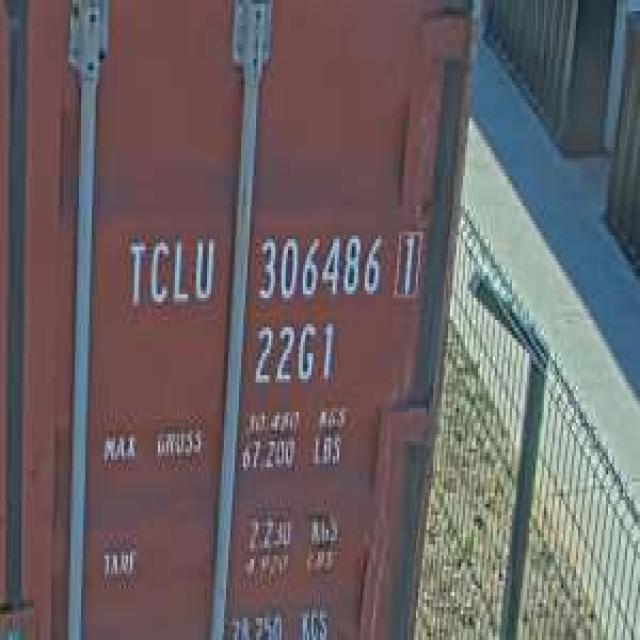dv: (390, 221, 424, 305)
owner: (122, 220, 216, 312)
serial: (254, 221, 384, 305)
size: (248, 313, 337, 390)
